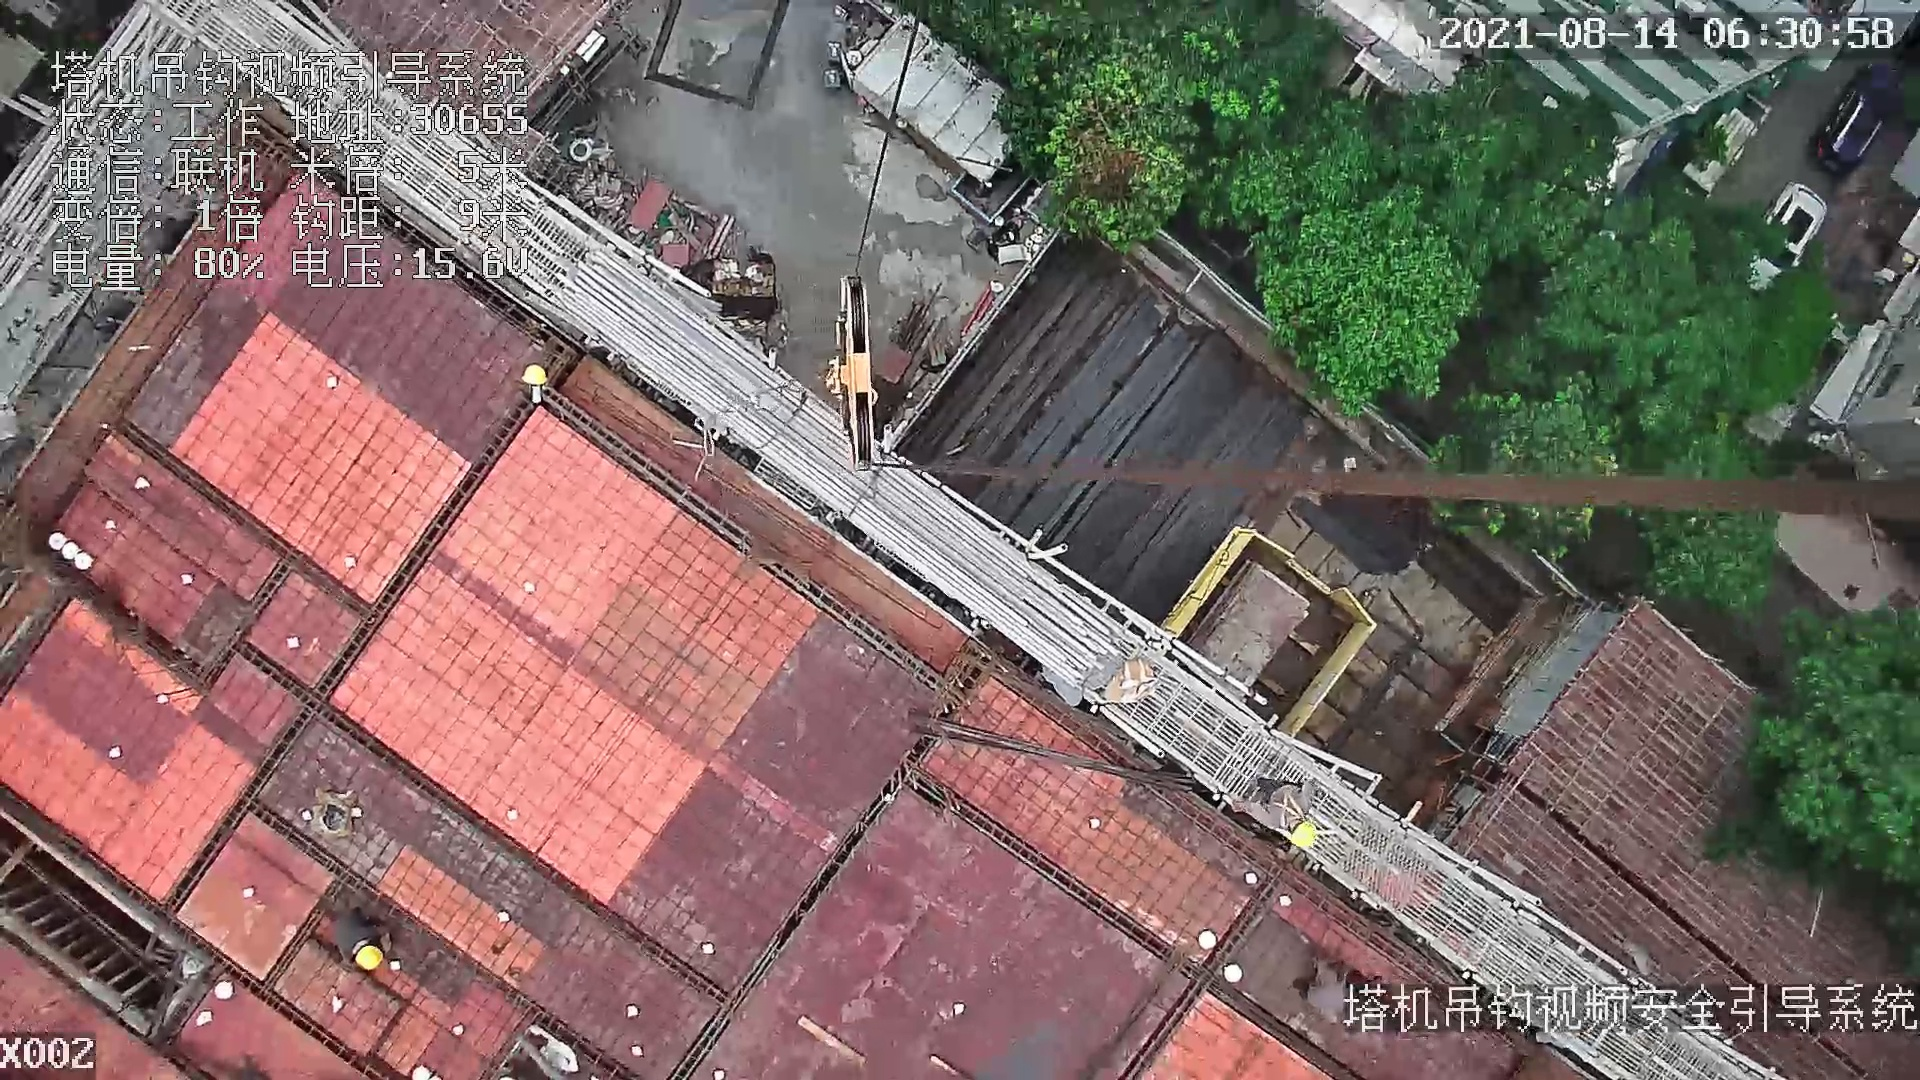helmet: (1289, 821, 1321, 853), (351, 945, 384, 971), (520, 362, 549, 386)
hook: (822, 272, 877, 469)
person: (1215, 769, 1332, 854), (323, 900, 387, 972)
rebar: (919, 233, 1297, 605)
